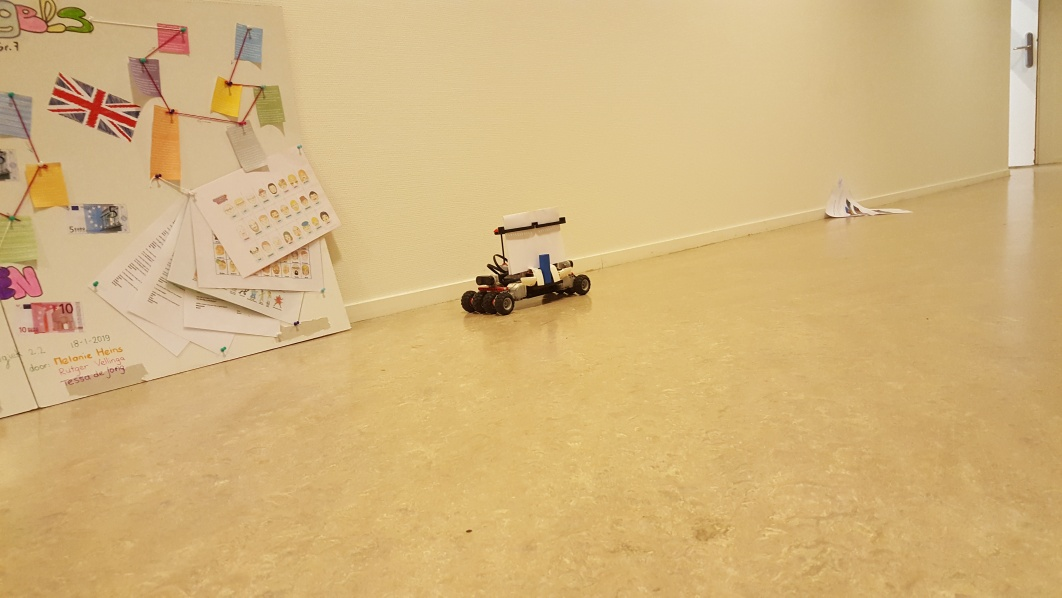beam: (538, 253, 554, 285)
